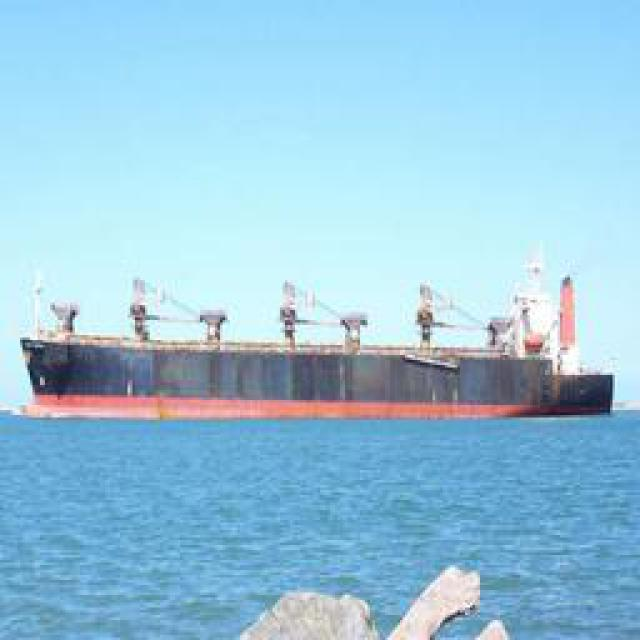Ship: (21, 270, 624, 450)
